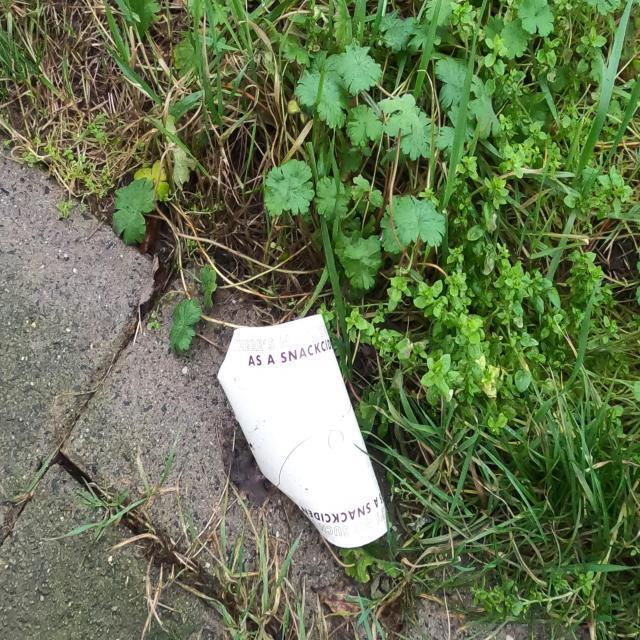Paper: (213, 313, 394, 562)
